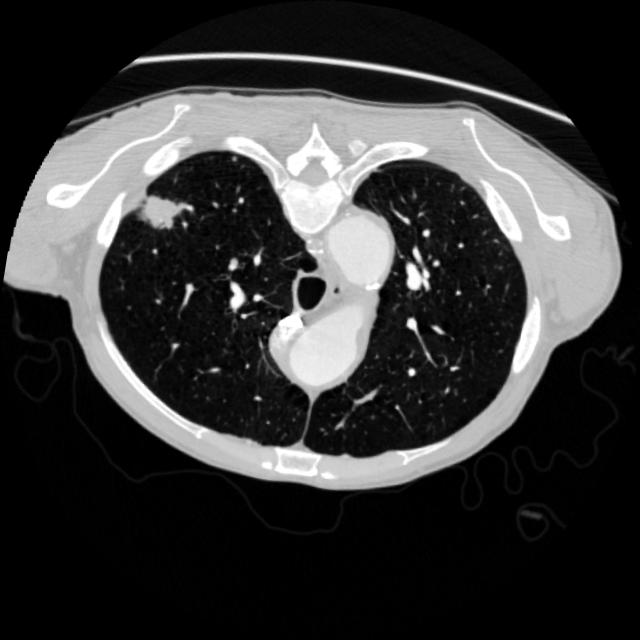nodule: (112, 166, 208, 260)
